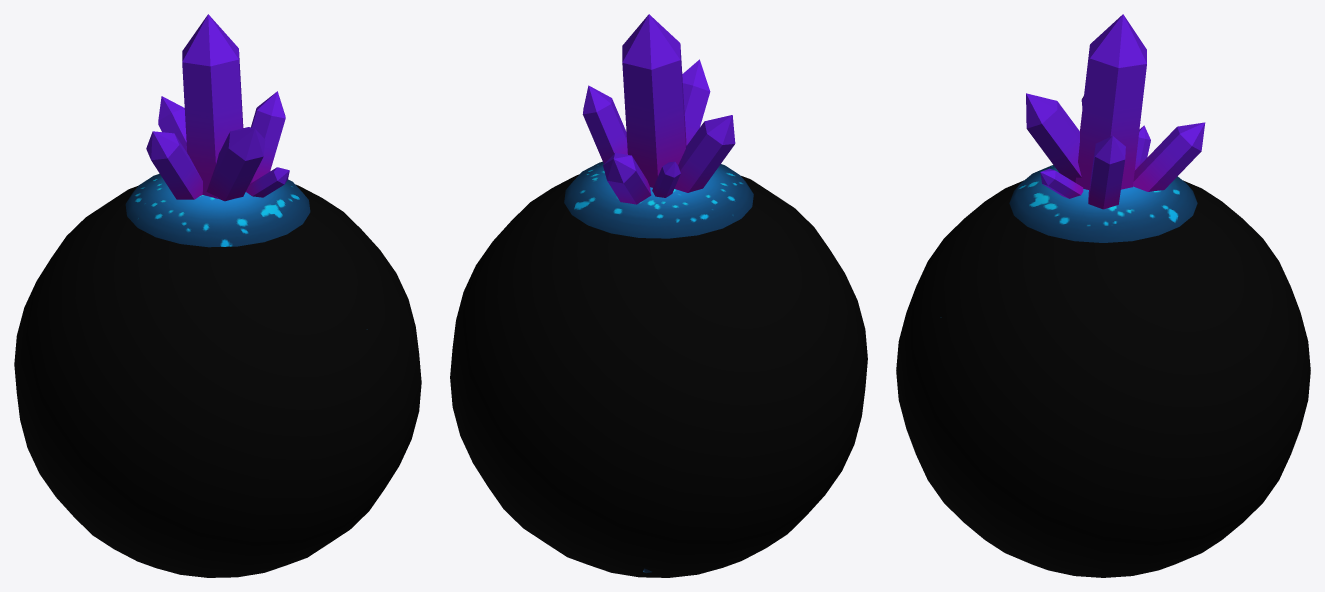
The model's file is wakusei_crystal.fbx.
3 renders of one model, left to right at view 1: azimuth 30°, elevation 25°; view 2: azimuth 150°, elevation 25°; view 3: azimuth 270°, elevation 25°, orthographic. The views are drawn at different scales.
Visible parts, largest first — view 1: polySurface1, polySurface2, pCylinder6, pCylinder7, pCylinder10, pCylinder8, pCylinder9, pCylinder12; view 2: polySurface1, polySurface2, pCylinder6, pCylinder10, pCylinder8, pCylinder9, pCylinder7, pCylinder11; view 3: polySurface1, polySurface2, pCylinder6, pCylinder7, pCylinder9, pCylinder8, pCylinder12.
Part boxes in pixels (left/top/right/bottom): polySurface1: left=14, top=184, right=421, bottom=577; polySurface2: left=125, top=173, right=310, bottom=247; pCylinder6: left=182, top=14, right=246, bottom=198; pCylinder7: left=206, top=127, right=265, bottom=201; pCylinder10: left=146, top=131, right=202, bottom=199; pCylinder8: left=250, top=91, right=285, bottom=183; pCylinder9: left=158, top=96, right=187, bottom=152; pCylinder12: left=246, top=167, right=289, bottom=197; polySurface1: left=450, top=174, right=867, bottom=577; polySurface2: left=564, top=161, right=753, bottom=238; pCylinder6: left=622, top=14, right=686, bottom=187; pCylinder10: left=674, top=115, right=735, bottom=192; pCylinder8: left=582, top=85, right=627, bottom=163; pCylinder9: left=603, top=152, right=651, bottom=204; pCylinder7: left=682, top=59, right=710, bottom=145; pCylinder11: left=652, top=161, right=680, bottom=197; polySurface1: left=896, top=180, right=1310, bottom=577; polySurface2: left=1009, top=165, right=1197, bottom=242; pCylinder6: left=1075, top=14, right=1146, bottom=189; pCylinder7: left=1026, top=93, right=1081, bottom=182; pCylinder9: left=1133, top=122, right=1205, bottom=191; pCylinder8: left=1088, top=136, right=1125, bottom=209; pCylinder12: left=1040, top=168, right=1083, bottom=198.
Bounding box in the file's own units: 12.49 × 18.11 × 12.49.
